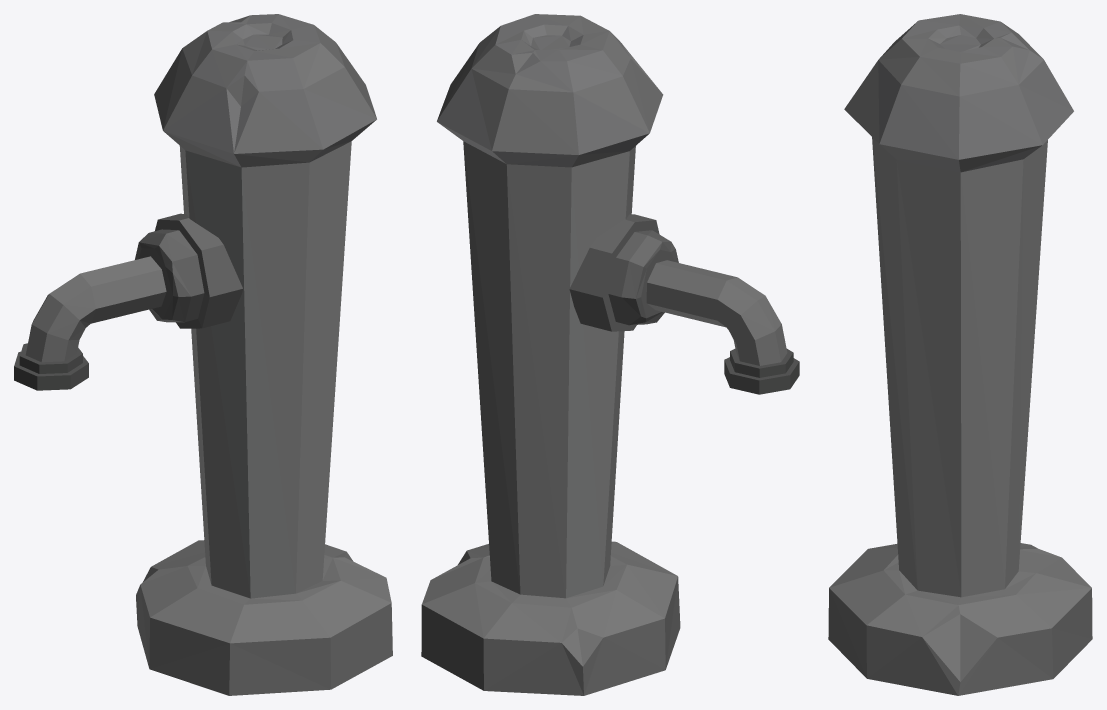
File: SFM_TP_Beer_Tower.fbx
3 views of the same model, side by side, from view 1: azimuth 30°, elevation 25°; view 2: azimuth 150°, elevation 25°; view 3: azimuth 270°, elevation 25° (orthographic).
Parts seen in each view (by area): view 1: SFM_TP_Beer_Tower; view 2: SFM_TP_Beer_Tower; view 3: SFM_TP_Beer_Tower.
Boxes of the visible parts, bbox=[...] form: SFM_TP_Beer_Tower: bbox=[14, 14, 392, 695]; SFM_TP_Beer_Tower: bbox=[421, 14, 799, 695]; SFM_TP_Beer_Tower: bbox=[828, 14, 1092, 695].
Bounding box in the file's own units: 29.13 × 46.61 × 18.55.
